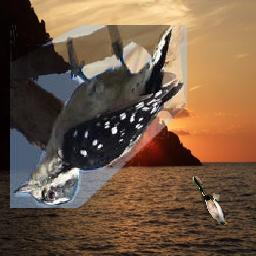Cuckoo: (193, 177, 228, 226)
Woodpecker: (11, 26, 188, 209)
